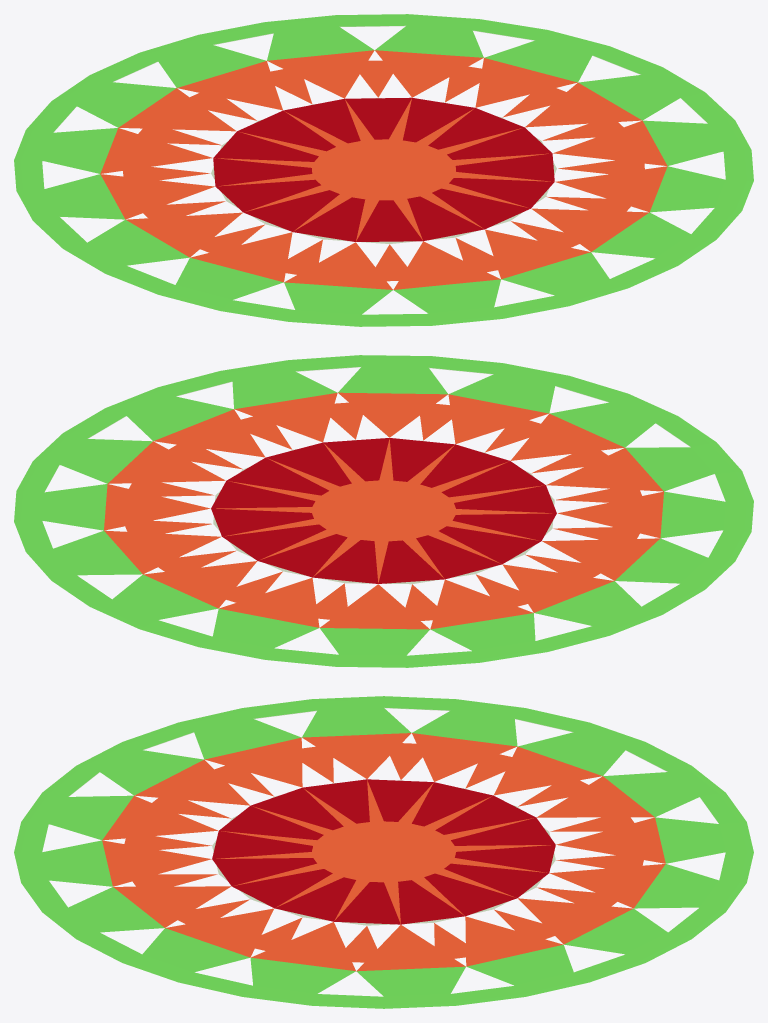
Rendered from zone.fbx.
3 views of the same model, one above another, from view 1: azimuth 30°, elevation 25°; view 2: azimuth 150°, elevation 25°; view 3: azimuth 270°, elevation 25° (orthographic).
Parts seen in each view (by area): view 1: Sphere; view 2: Sphere; view 3: Sphere.
Boxes of the visible parts, left/top/right/bottom form: Sphere: left=14, top=14, right=753, bottom=326; Sphere: left=14, top=355, right=753, bottom=667; Sphere: left=14, top=696, right=753, bottom=1008.
Size of the model in its own units: 861 by 1.52 by 861.
